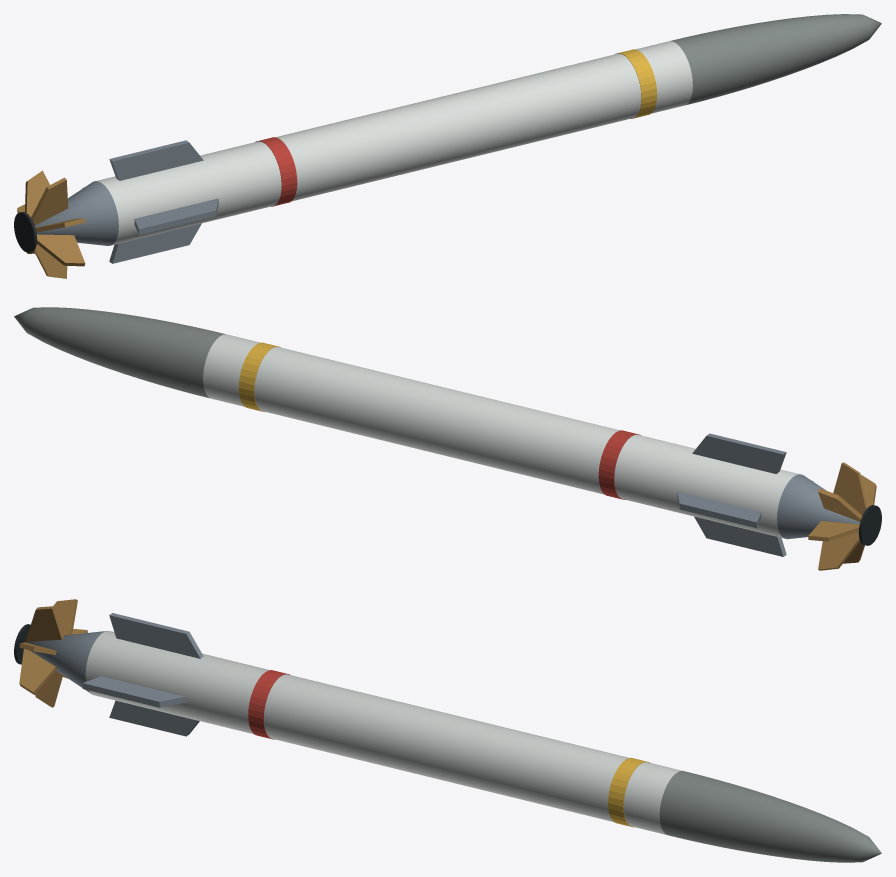
3 renders of one model, top to bottom at view 1: azimuth 30°, elevation 25°; view 2: azimuth 150°, elevation 25°; view 3: azimuth 330°, elevation 25°, orthographic.
Visible parts, largest first — view 1: cw90_53_65; view 2: cw90_53_65; view 3: cw90_53_65.
Part boxes in pixels (x1,y1,x2,y2): cw90_53_65: (14,14,881,278); cw90_53_65: (14,307,881,570); cw90_53_65: (14,599,881,862).
Bounding box in the file's own units: 10 × 1.14 × 1.14.
